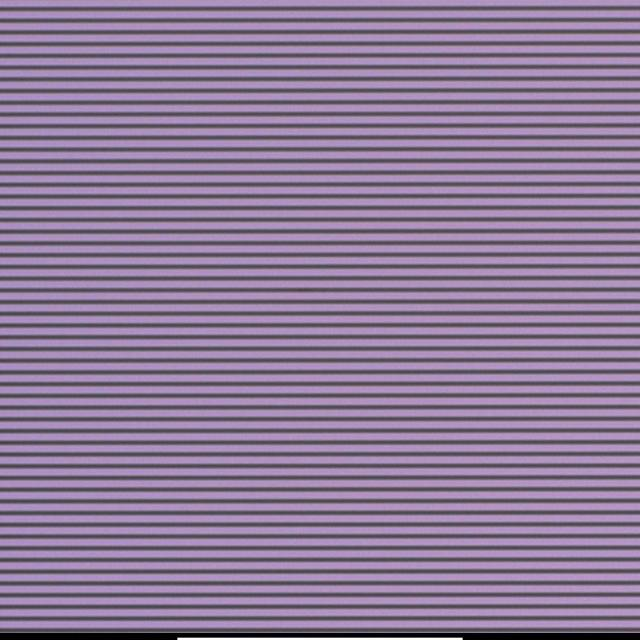03_intrusion: (299, 287, 306, 294)
